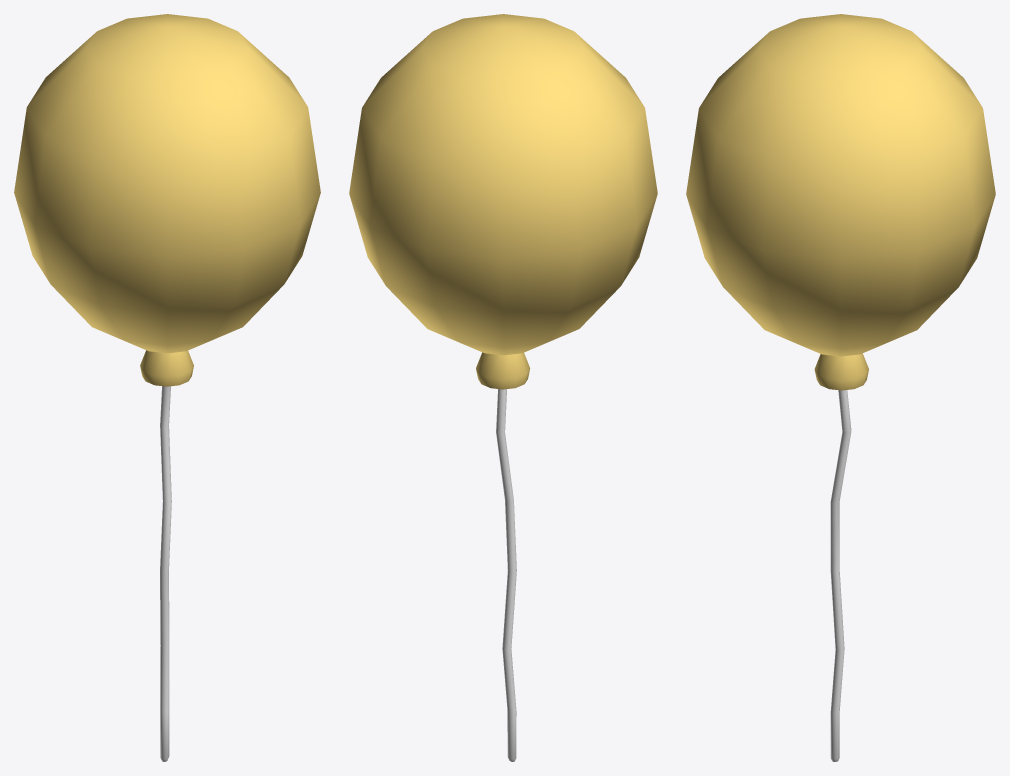
File: Pungsun2-2.fbx
The picture shows the model from 3 angles, left to right: view 1: azimuth 30°, elevation 25°; view 2: azimuth 150°, elevation 25°; view 3: azimuth 270°, elevation 25°; orthographic projection.
Parts seen in each view (by area): view 1: Pungsun2-2; view 2: Pungsun2-2; view 3: Pungsun2-2.
Boxes of the visible parts, x1,y1,x2,y2 form: Pungsun2-2: [14, 14, 320, 761]; Pungsun2-2: [349, 14, 657, 761]; Pungsun2-2: [686, 14, 995, 761].
Size of the model in its own units: 0.1547 by 0.4067 by 0.1547.
